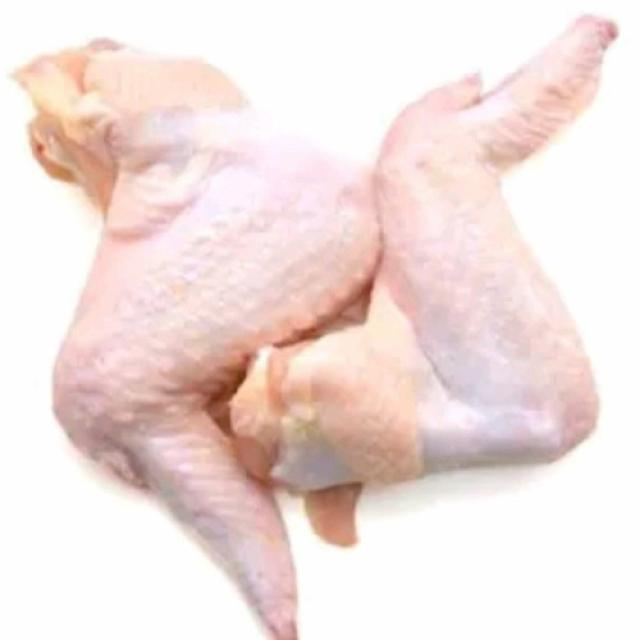chicken: (15, 34, 374, 640), (239, 20, 599, 487)
